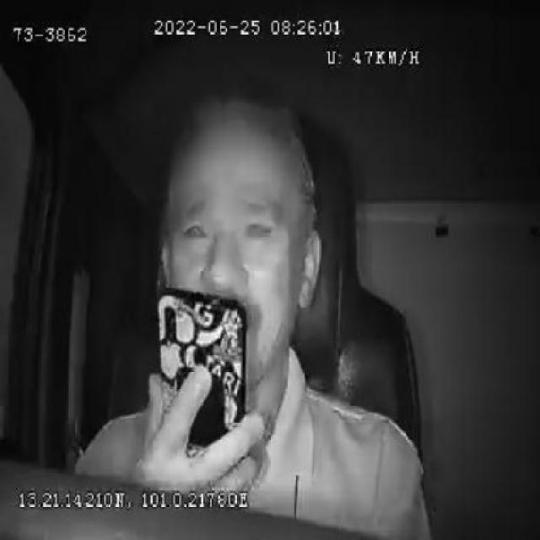phone: (158, 292, 245, 497)
